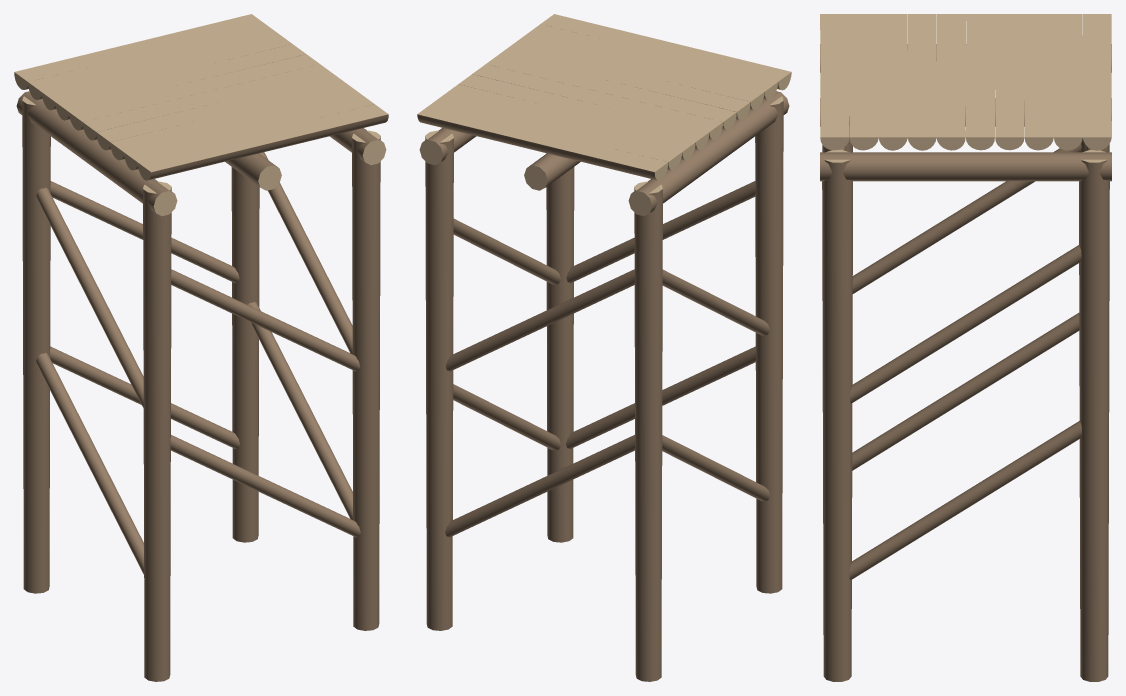
The model's file is log_foundation_stilts.glb.
3 renders of one model, left to right at view 1: azimuth 30°, elevation 25°; view 2: azimuth 150°, elevation 25°; view 3: azimuth 270°, elevation 25°, orthographic. The views are drawn at different scales.
Parts seen in each view (by area): view 1: Foundation; view 2: Foundation; view 3: Foundation.
Boxes of the visible parts, <box> form: Foundation: <box>14,14,388,681</box>; Foundation: <box>417,14,791,681</box>; Foundation: <box>820,14,1111,681</box>.
Bounding box in the file's own units: 3 × 6.2 × 3.
